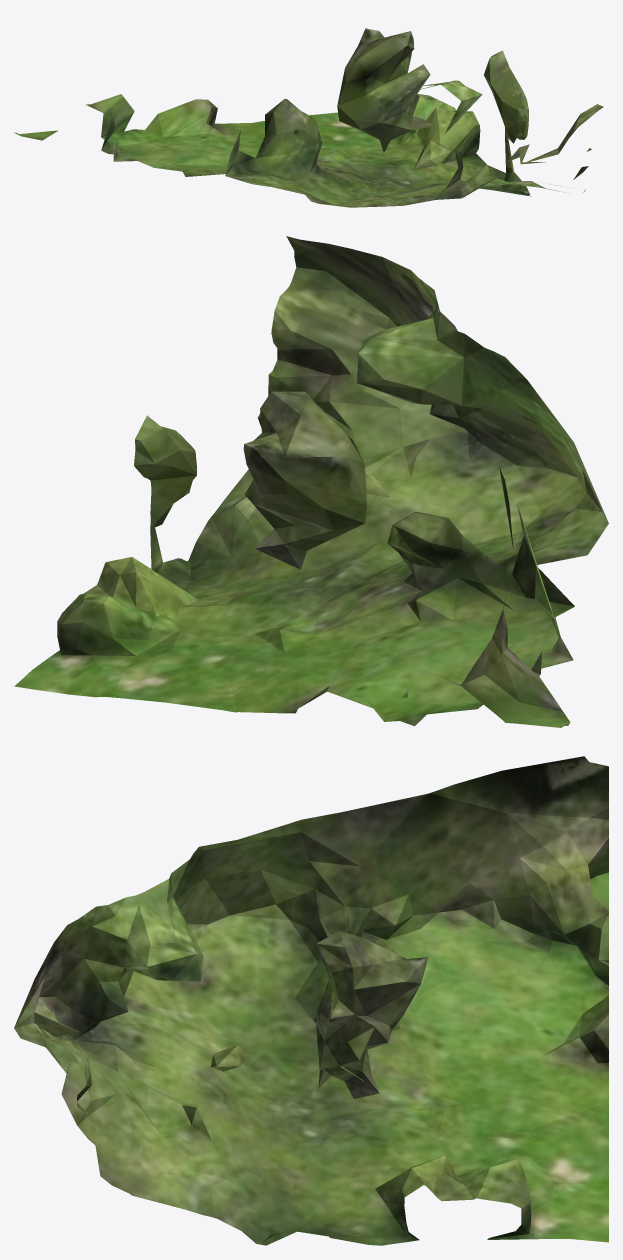
3 views of the same model, one above another, from view 1: azimuth 30°, elevation 25°; view 2: azimuth 150°, elevation 25°; view 3: azimuth 270°, elevation 25° (orthographic). The views are drawn at different scales.
Bounding box in the file's own units: 37.2 × 16.33 × 34.25.
Materials: 2 (2 with a texture image).
